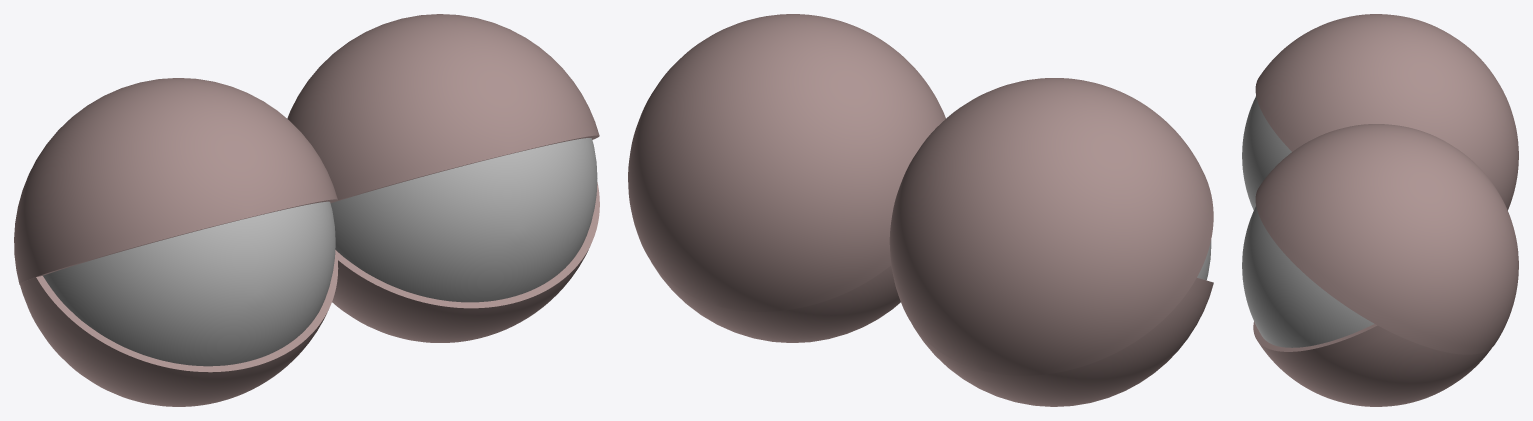
File: eye_balls.fbx
3 views of the same model, side by side, from view 1: azimuth 30°, elevation 25°; view 2: azimuth 150°, elevation 25°; view 3: azimuth 270°, elevation 25° (orthographic). The views are drawn at different scales.
Parts seen in each view (by area): view 1: eye_lid_top1, eye_lid_top, eye_ball1, eye_ball, eye_lid_down1, eye_lid_down; view 2: eye_lid_top1, eye_lid_top, eye_lid_down1, eye_lid_down; view 3: eye_lid_top, eye_lid_top1, eye_lid_down, eye_ball, eye_ball1.
Boxes of the visible parts, x1,y1,x2,y2 form: eye_lid_top1: (14,78,337,284); eye_lid_top: (287,14,599,202); eye_ball1: (43,201,335,366); eye_ball: (330,138,597,302); eye_lid_down1: (20,255,338,406); eye_lid_down: (332,182,599,342); eye_lid_top1: (889,78,1213,375); eye_lid_top: (628,14,945,311); eye_lid_down1: (912,277,1213,406); eye_lid_down: (651,261,900,342); eye_lid_top: (1255,124,1518,354); eye_lid_top1: (1255,14,1518,210); eye_lid_down: (1253,321,1491,406); eye_ball: (1242,206,1374,347); eye_ball1: (1242,96,1291,210).
Size of the model in its own units: 4.03 by 2.1 by 2.05.
